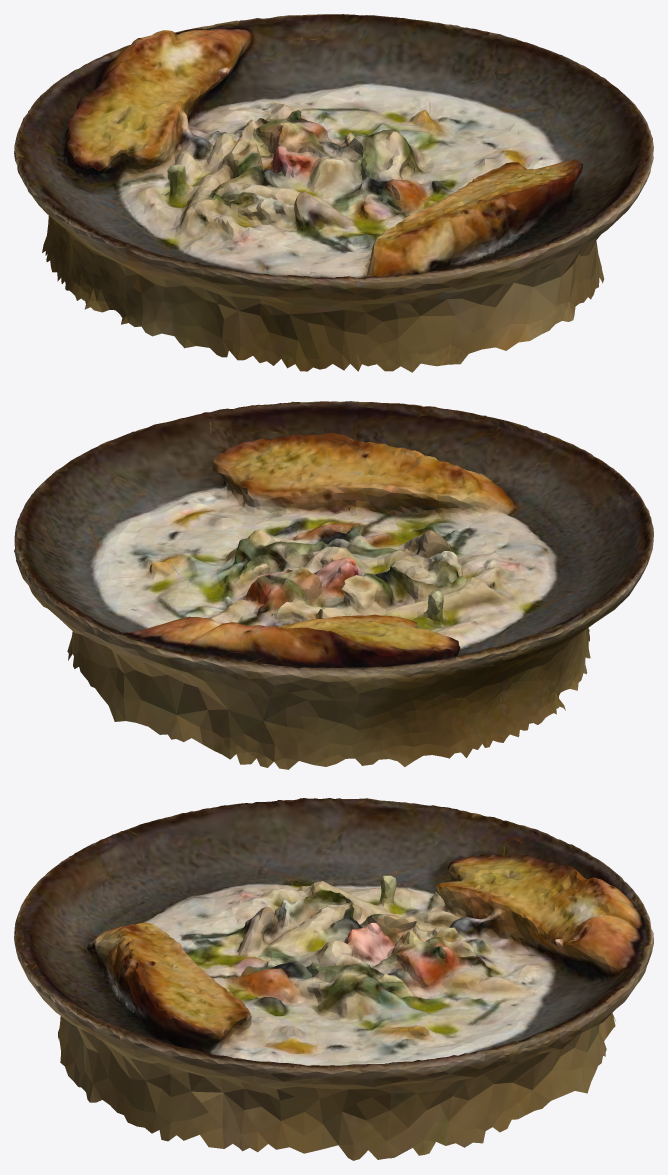
Rendered from pasta-resized.glb.
The picture shows the model from 3 angles, top to bottom: view 1: azimuth 30°, elevation 25°; view 2: azimuth 150°, elevation 25°; view 3: azimuth 270°, elevation 25°; orthographic projection.
Size of the model in its own units: 0.271 by 0.0658 by 0.2719.
1 material, 1 textured.
